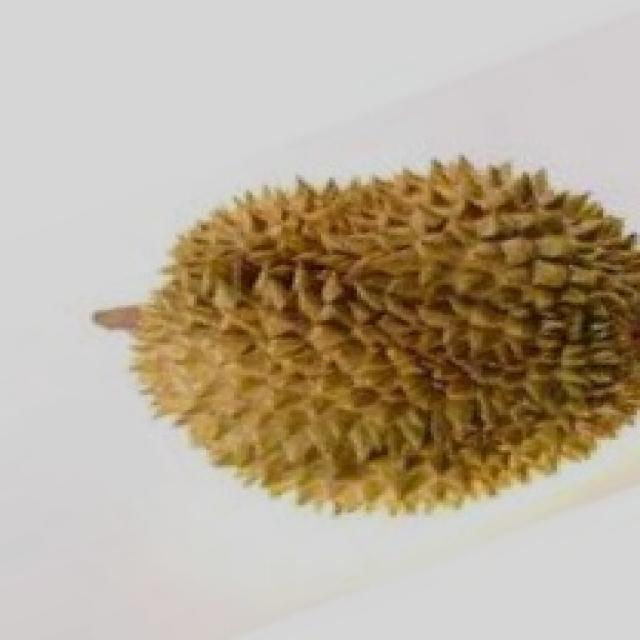fruit: (261, 160, 640, 585), (80, 172, 449, 592)
